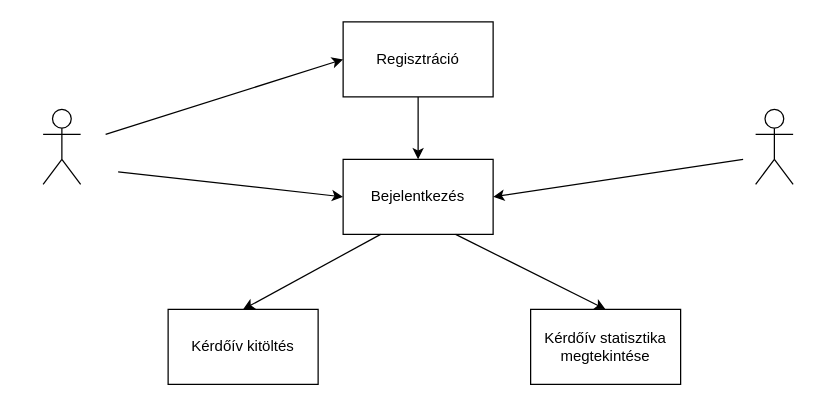
Image size: 818x406. Some labels were removed from this diagram. Here are the shapes that lost their labels. From the top down, the centre of each, then its label:
At (x=61, y=146): "Felhasználó".
At (x=773, y=146): "Admin".
